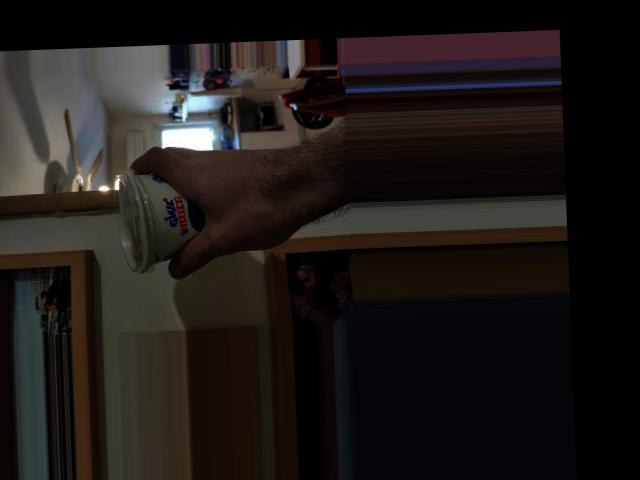cotage: (109, 158, 229, 269)
